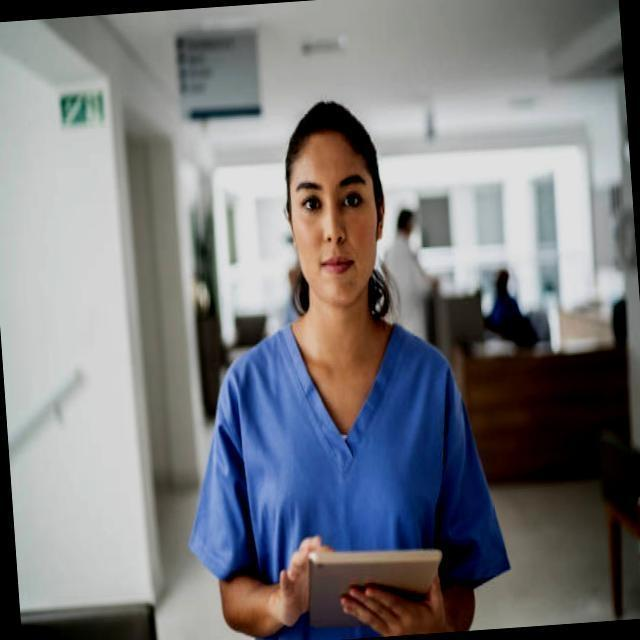no_hairnet: (294, 217, 376, 304)
